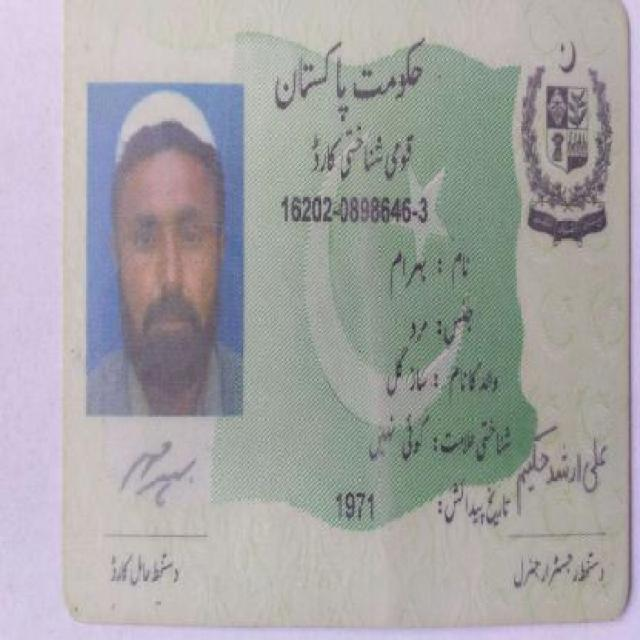Front: (54, 3, 634, 626)
